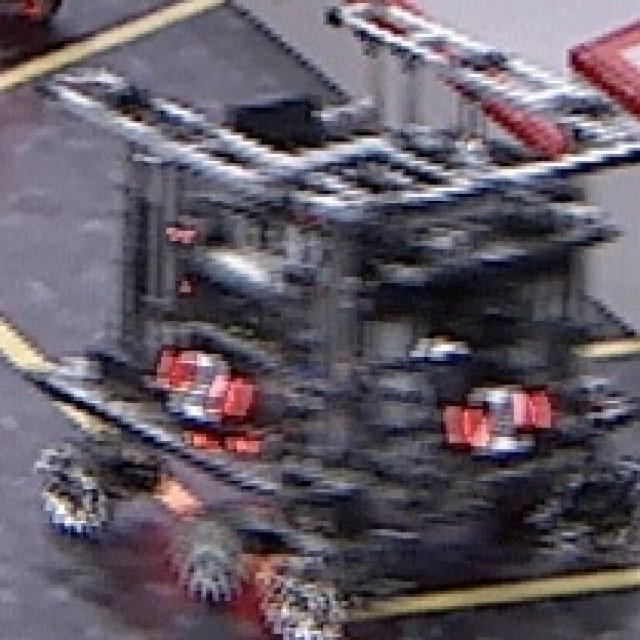R2: (442, 371, 543, 454), (145, 336, 237, 422)
